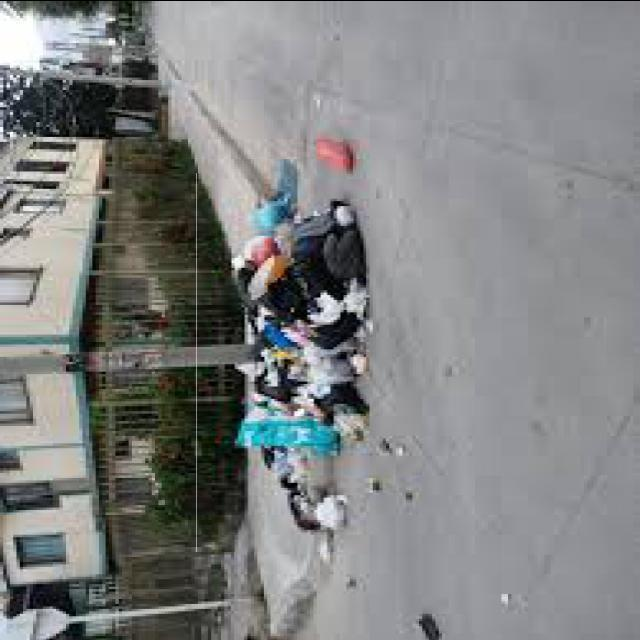Trashbag: (326, 224, 366, 284), (252, 359, 294, 410), (288, 260, 330, 311), (312, 379, 368, 416)
